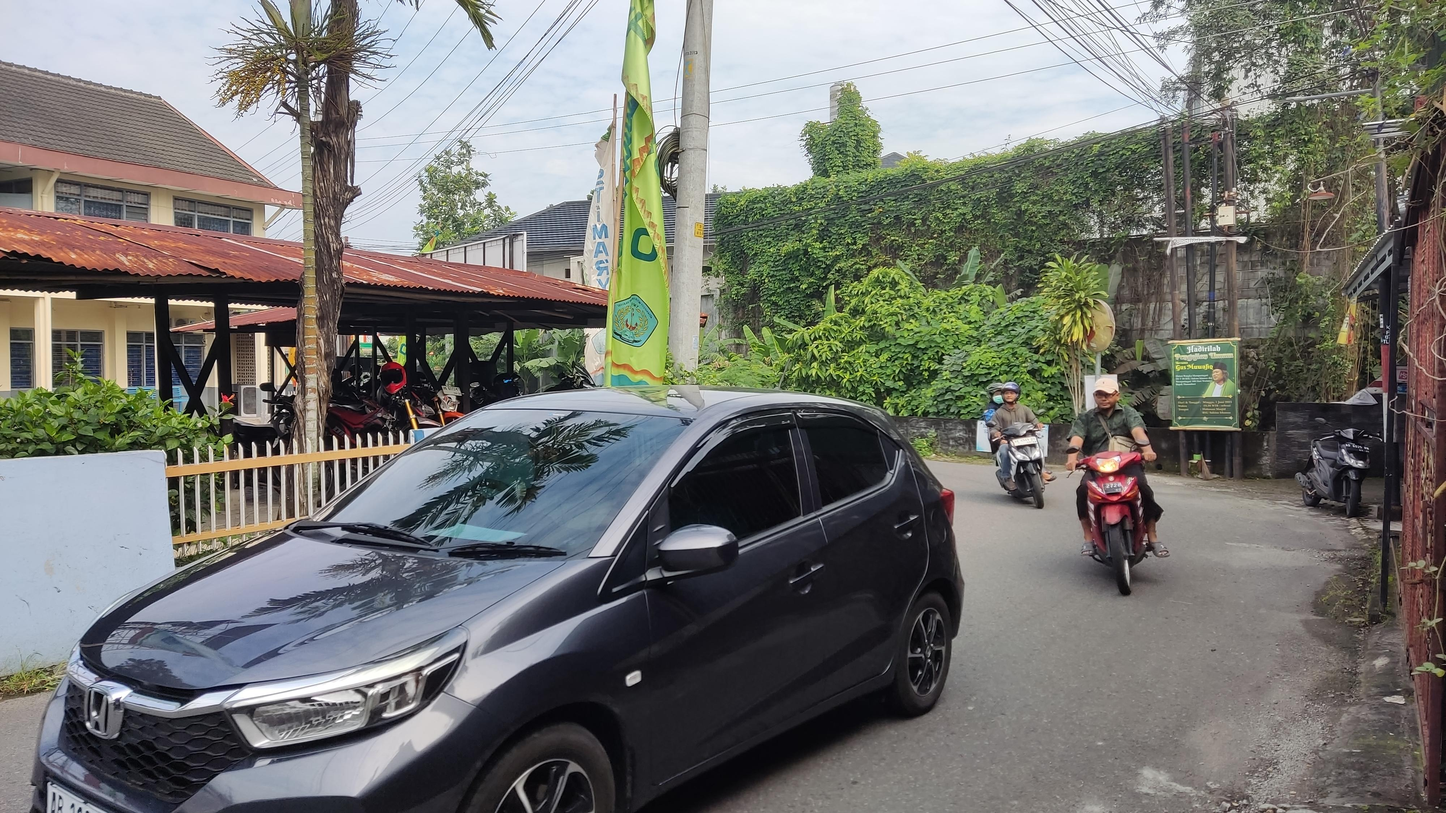helm: (1001, 382, 1021, 404), (986, 383, 1005, 406)
nohelm: (1092, 378, 1121, 411)
riding: (1064, 378, 1172, 598), (983, 381, 1058, 510)
